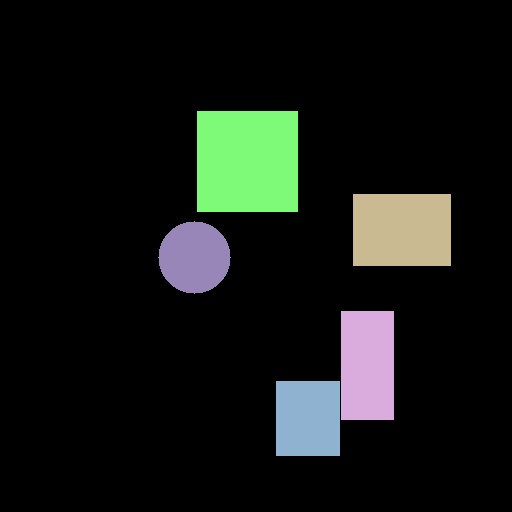circle: (158, 221, 230, 293)
rectangle: (353, 194, 450, 265), (341, 311, 393, 419), (276, 381, 339, 455)
square: (197, 111, 297, 211)
